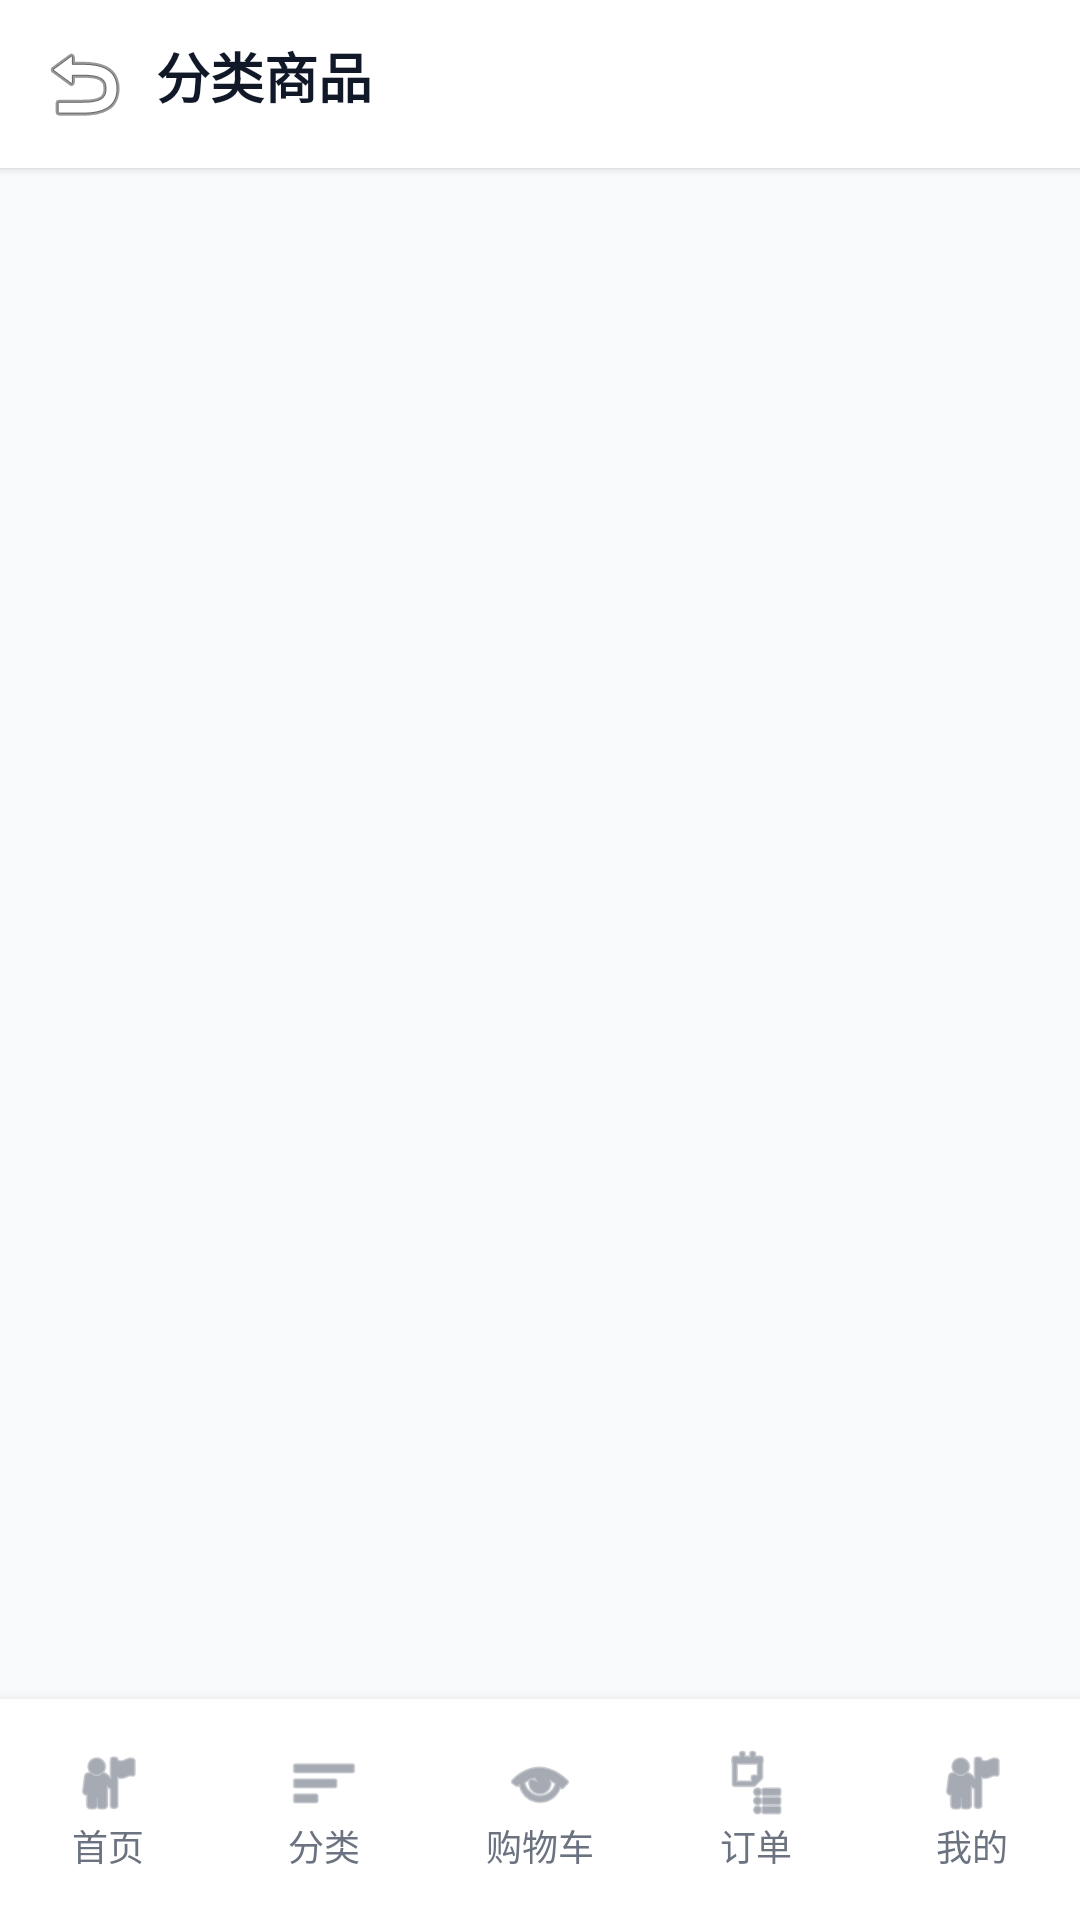

Named icons in this screenshot (1080×1920) and their centers, (x,y):
agenda: (756,1783)
myplaces: (109,1783), (973,1783)
sort by size: (324,1783)
view: (540,1785)
